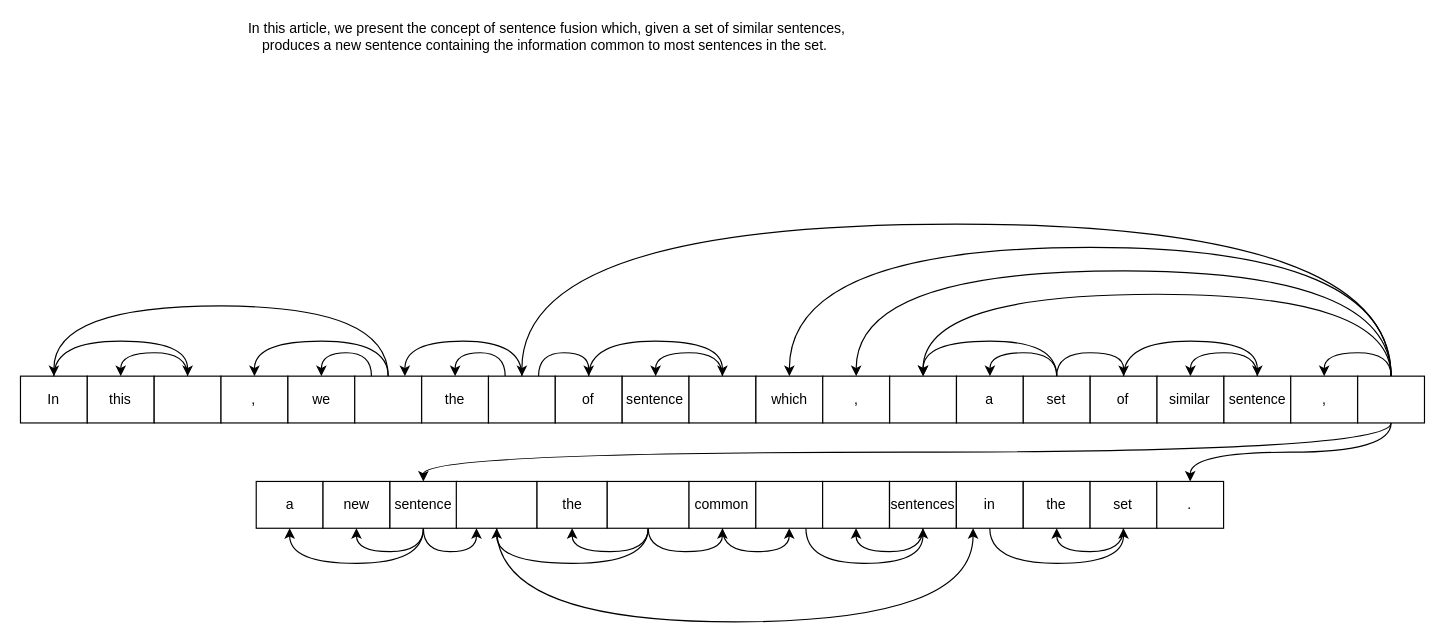
Some shapes in this 1445 by 642 pixel diagram are drawn without their labels. The centre of each missing label's shape, as x and y in pixels:
"article" belongs at (x=187, y=399).
"concept" belongs at (x=521, y=399).
"containing" belongs at (x=496, y=504).
"fusion" belongs at (x=722, y=399).
"given" belongs at (x=922, y=399).
"information" belongs at (x=647, y=504).
"most" belongs at (x=855, y=504).
"present" belongs at (x=388, y=399).
"produces" belongs at (x=1390, y=399).
"to" belongs at (x=789, y=504).
